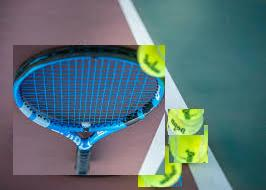tennis ball: (138, 145, 182, 187), (169, 125, 208, 163), (168, 110, 204, 135)
tennis racket: (13, 46, 165, 175)
